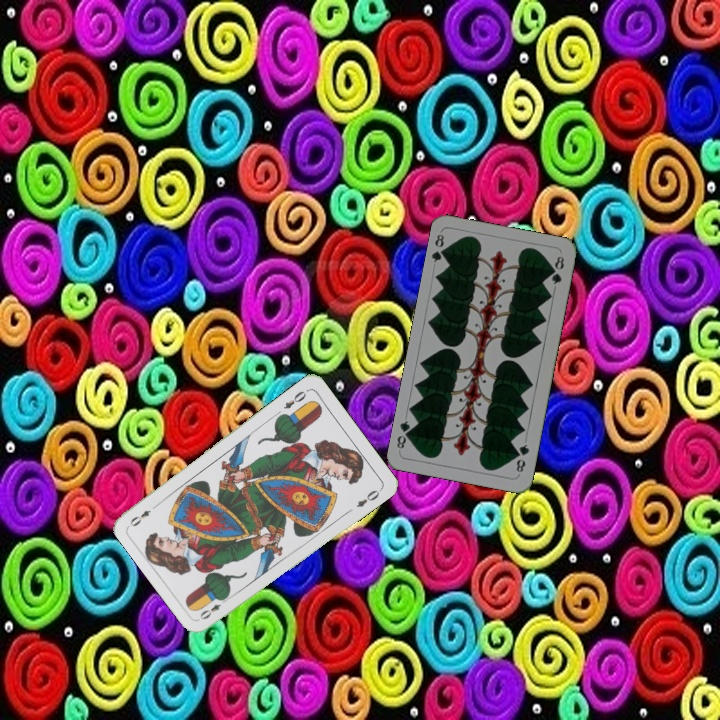EO: (196, 594, 231, 622), (280, 387, 309, 412)
G8: (428, 230, 450, 265), (512, 440, 532, 477)
